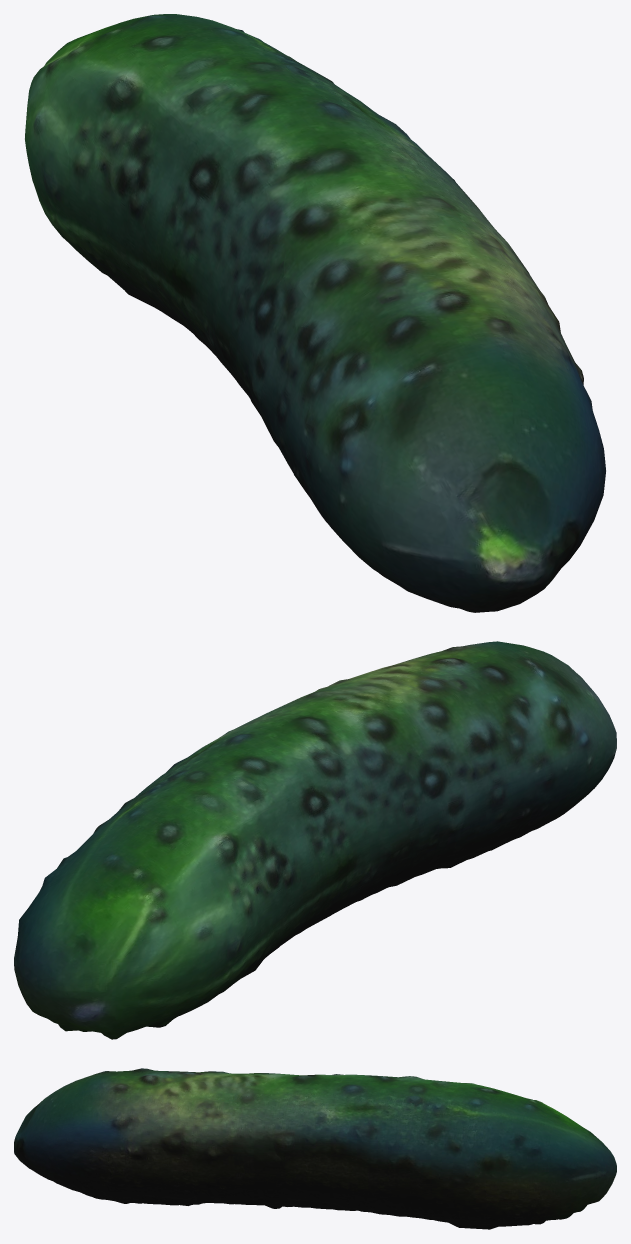
File: obj09_baseline.glb
3 views of the same model, one above another, from view 1: azimuth 30°, elevation 25°; view 2: azimuth 150°, elevation 25°; view 3: azimuth 270°, elevation 25° (orthographic). The views are drawn at different scales.
Visible parts, largest first — view 1: n1; view 2: n1; view 3: n1.
Part boxes in pixels (x1,y1,x2,y2): n1: (25, 14, 605, 612); n1: (14, 641, 616, 1039); n1: (14, 1068, 616, 1229).
Bounding box in the file's own units: 0.3029 × 0.2282 × 0.897.
1 material, 1 textured.
